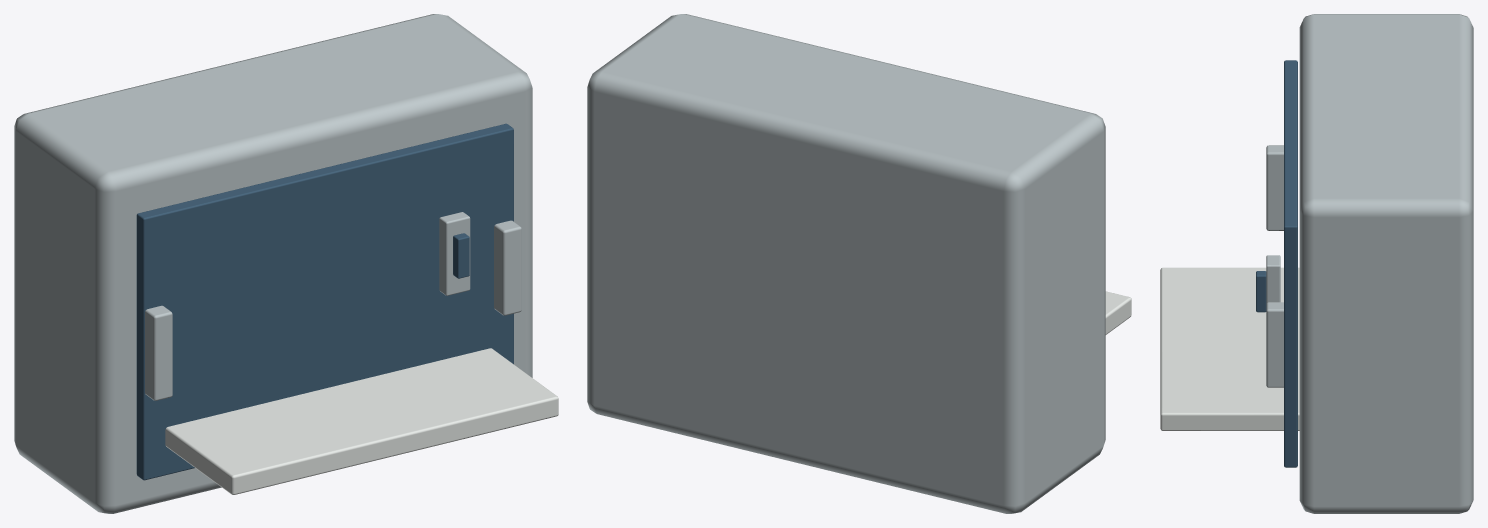
The model's file is container-inspection-and-customs-yard-container-inspec-bdd6ecc2__29324.glb.
The picture shows the model from 3 angles, left to right: view 1: azimuth 30°, elevation 25°; view 2: azimuth 150°, elevation 25°; view 3: azimuth 270°, elevation 25°; orthographic projection. The views are drawn at different scales.
Visible parts, largest first — view 1: container-inspection-and-customs-yard-document-transfer-hatc (×3); view 2: container-inspection-and-customs-yard-document-transfer-hatc (×2); view 3: container-inspection-and-customs-yard-document-transfer-hatc (×3).
Part boxes in pixels (x1,y1,x2,y2): container-inspection-and-customs-yard-document-transfer-hatc (×3): (14, 14, 558, 513); container-inspection-and-customs-yard-document-transfer-hatc (×2): (587, 14, 1131, 513); container-inspection-and-customs-yard-document-transfer-hatc (×3): (1160, 14, 1473, 513).
Bounding box in the file's own units: 0.8 × 0.6 × 0.54.
